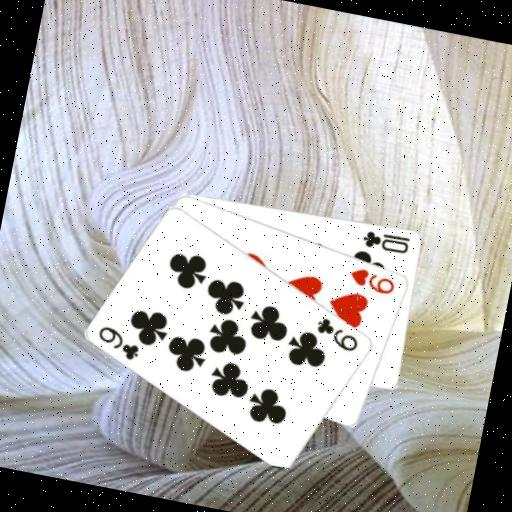10C: (360, 225, 414, 256)
9C: (91, 321, 145, 364), (310, 313, 364, 355)
9H: (345, 263, 399, 298)
